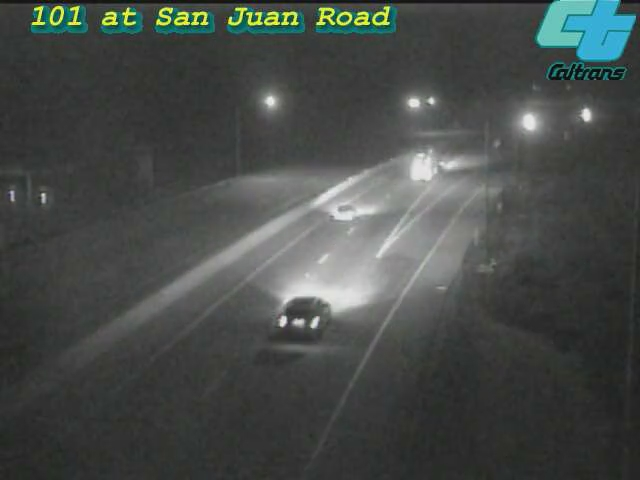vehicle: (379, 131, 459, 211), (306, 173, 386, 253), (255, 278, 335, 358), (502, 94, 552, 144), (561, 90, 611, 140)
